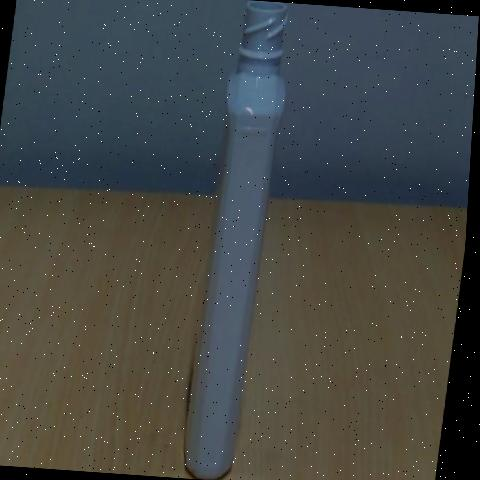bottle: (184, 0, 287, 479)
